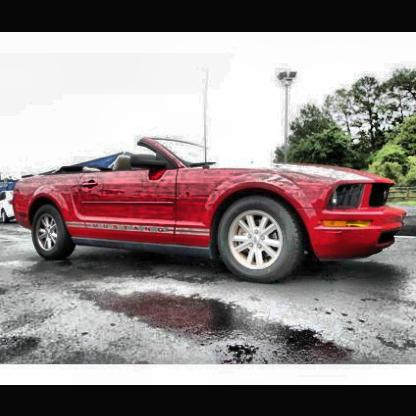Ford Mustang Convertible 2007: (13, 135, 410, 284)
